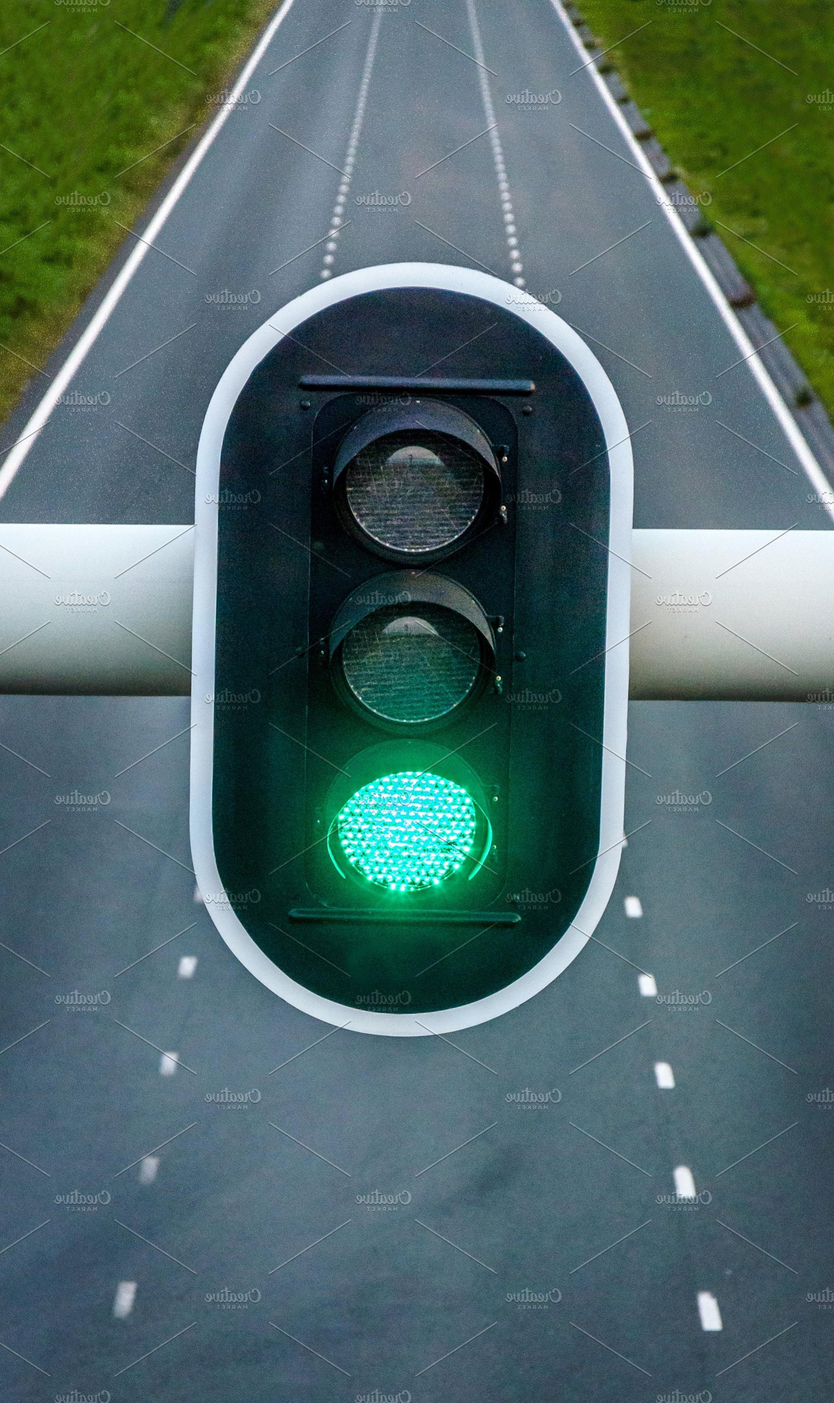Traffic light green: (192, 284, 637, 1013)
